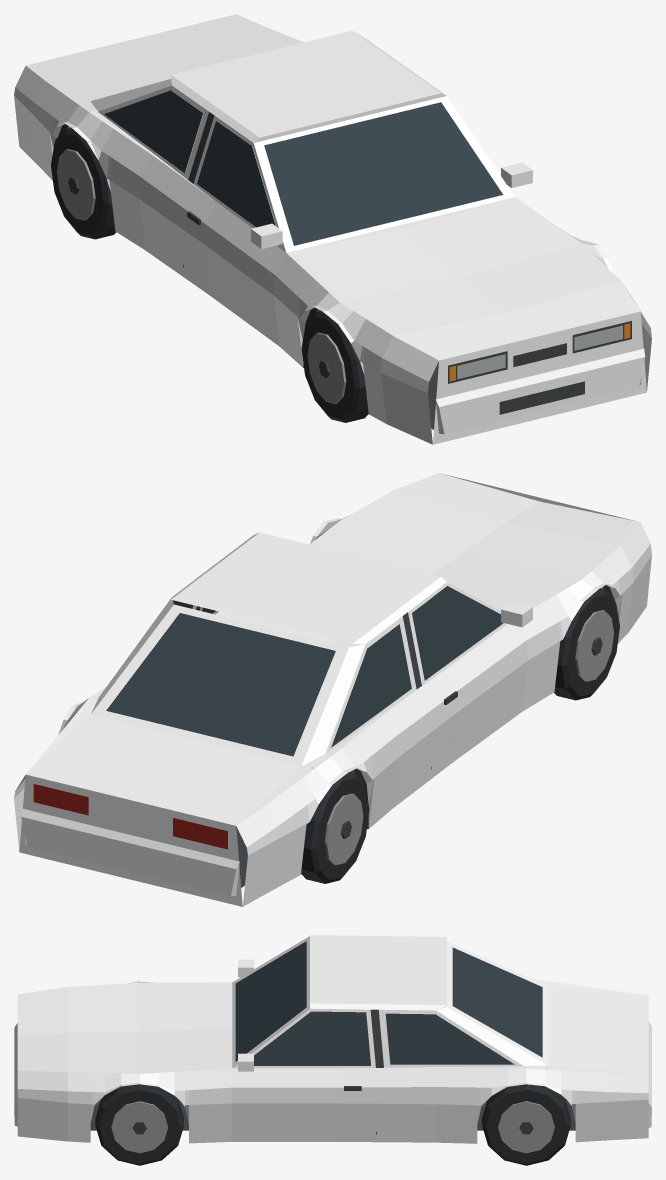
File: rauhe_fink_r.glb
3 views of the same model, one above another, from view 1: azimuth 30°, elevation 25°; view 2: azimuth 150°, elevation 25°; view 3: azimuth 270°, elevation 25° (orthographic). The views are drawn at different scales.
Visible parts, largest first — view 1: rauhe_fink_r; view 2: rauhe_fink_r; view 3: rauhe_fink_r.
Boxes of the visible parts, x1,y1,x2,y2 form: rauhe_fink_r: (14, 14, 651, 444); rauhe_fink_r: (14, 473, 651, 906); rauhe_fink_r: (14, 935, 651, 1165).
Size of the model in its own units: 1.81 by 1.2 by 4.7.
8 materials, 1 textured.
